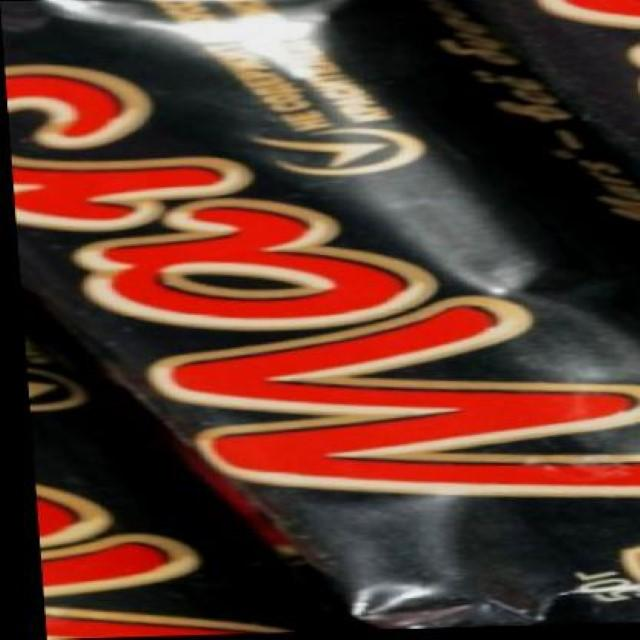mars_chocolate: (50, 48, 640, 640)
